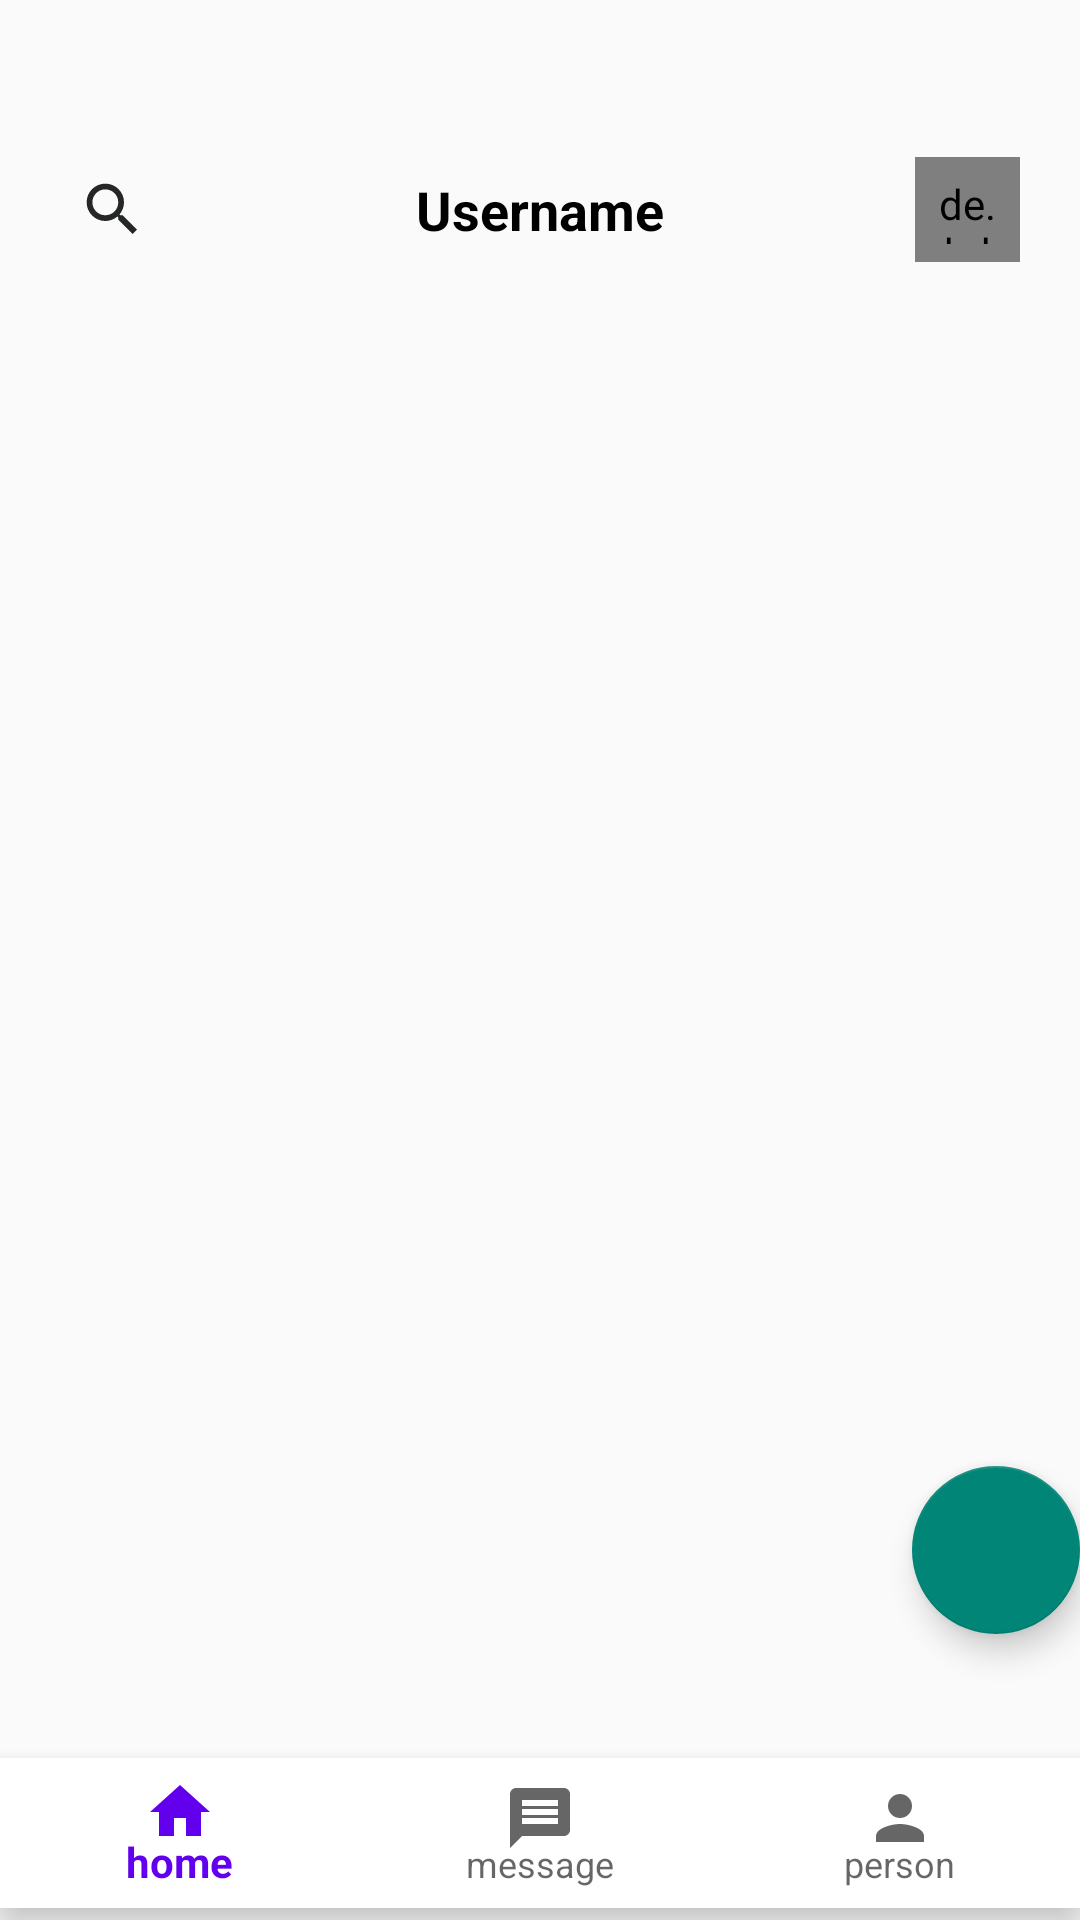

Screen size 1080x1920. Icon name, then its box in pixels as detection(x1, y1, x2, y2):
search: detection(86, 183, 137, 234)
